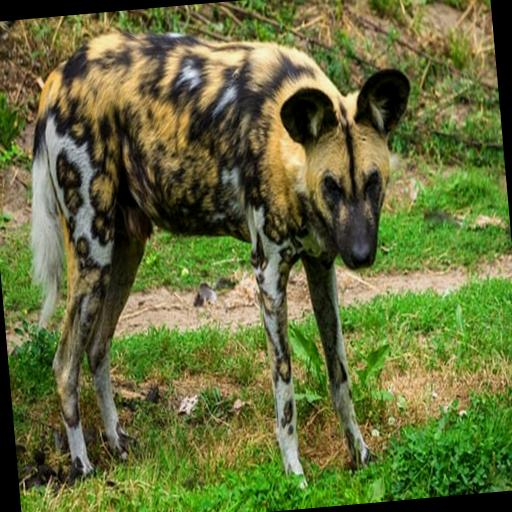hyenas: (0, 17, 443, 478)
